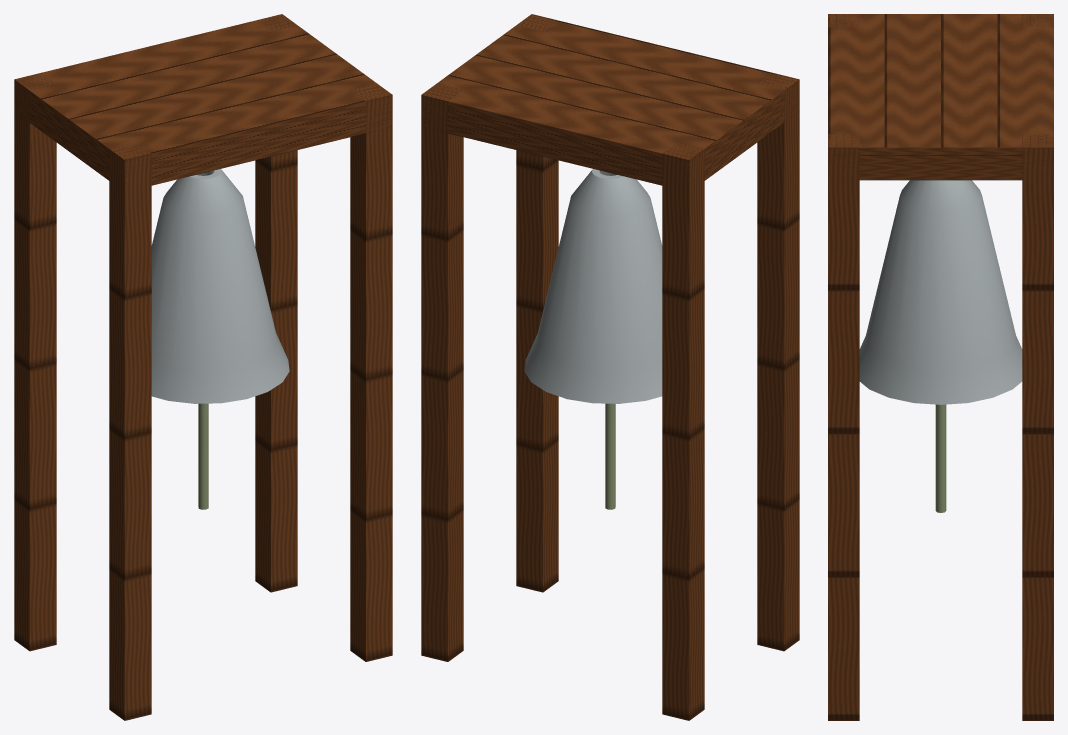
The model's file is fortified-compound-expansion-warning-bell-frame-d57ed756__27126.glb.
3 views of the same model, side by side, from view 1: azimuth 30°, elevation 25°; view 2: azimuth 150°, elevation 25°; view 3: azimuth 270°, elevation 25° (orthographic). The views are drawn at different scales.
Visible parts, largest first — view 1: warning-bell-frame; view 2: warning-bell-frame; view 3: warning-bell-frame.
Boxes of the visible parts, <box> form: warning-bell-frame: <box>14,14,392,720</box>; warning-bell-frame: <box>421,14,799,720</box>; warning-bell-frame: <box>828,14,1053,720</box>.
Size of the model in its own units: 0.7001 by 1.4 by 0.4999.
Materials: 3 (1 with a texture image).
